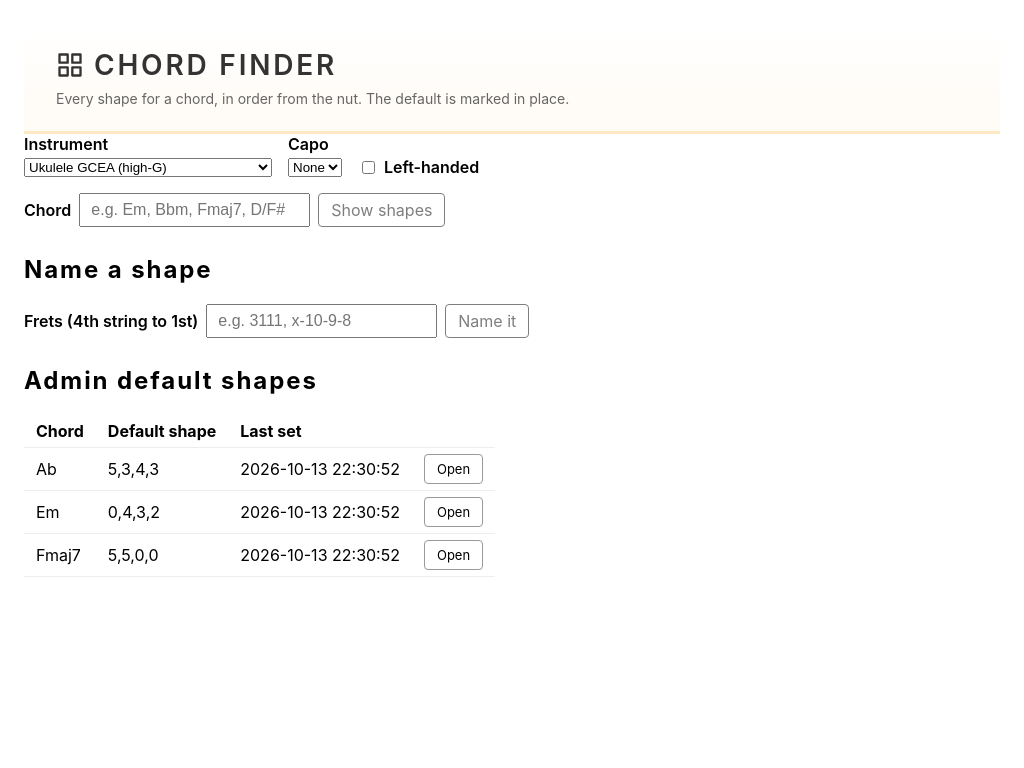
Test case: ChordFinder › the admin defaults list loads, and Open looks the chord up
Click the button "Open" in the row of "Em". click: (454, 512)
box: x1=424 y1=497 x2=483 y2=527
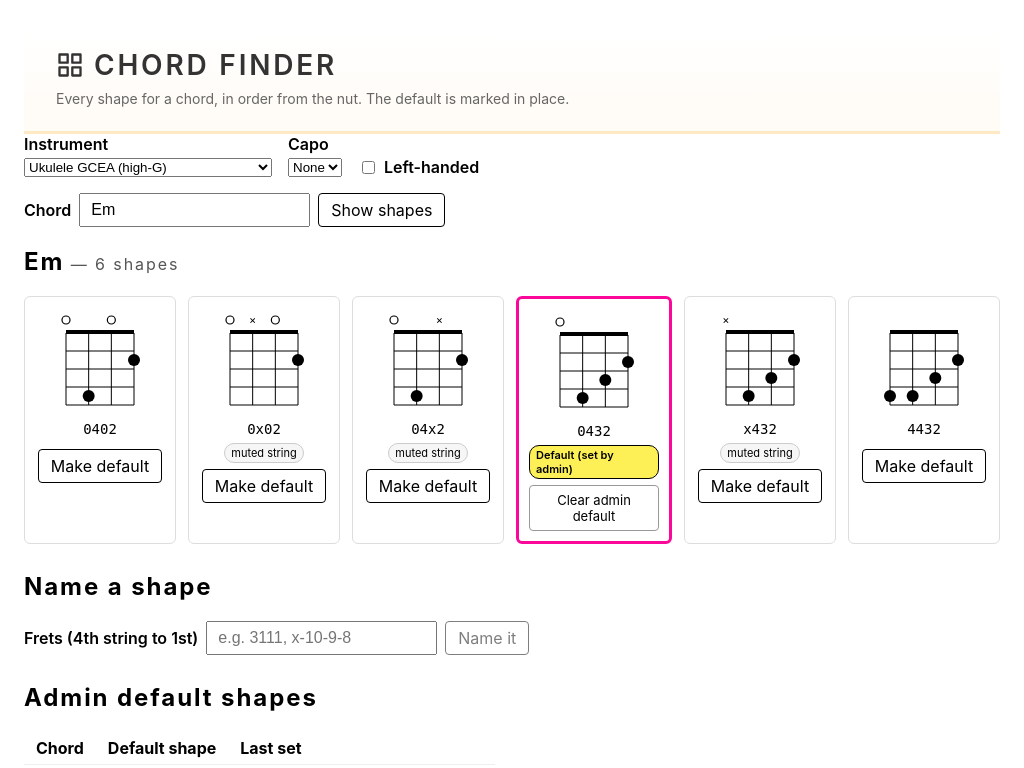
Expected: the number of list items with test id "shape-card" is 6, x1=24 y1=296 x2=176 y2=544; x1=188 y1=296 x2=340 y2=544; x1=352 y1=296 x2=504 y2=544; x1=516 y1=296 x2=672 y2=544; x1=684 y1=296 x2=836 y2=544; x1=848 y1=296 x2=1000 y2=544
